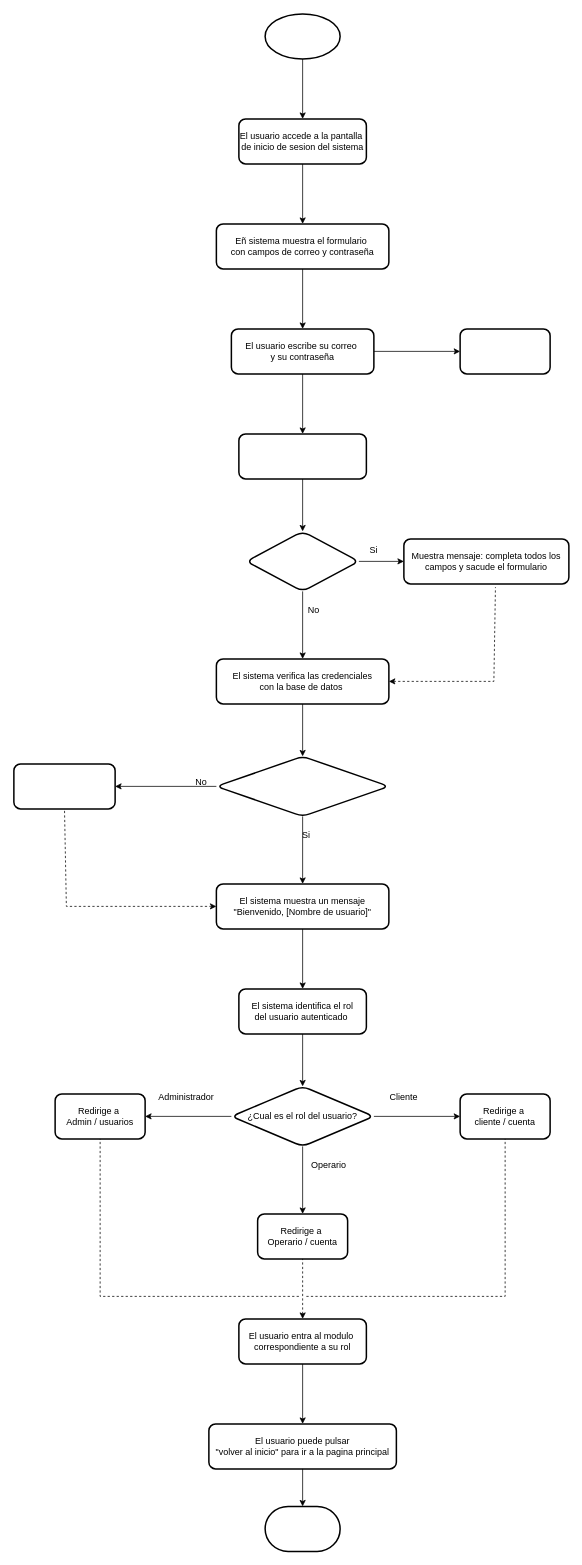
Some shapes in this 582 by 1565 pixel diagram are drawn without their labels. The shapes that lost their labels are listed below. From the top down, each one's box as (x1, y1, x2, y2) in pixels, then its label:
(264, 13, 340, 59): INICIO
(459, 328, 550, 374): Puede ver / ocultar clave
(238, 433, 367, 479): El usuario hace click en "iniciar sesion"
(245, 530, 359, 592): ¿Hay campos vacios?
(13, 763, 116, 809): Muestra error: credenciales incorrectas y sacude el formulario
(215, 755, 389, 817): ¿Las credenciales son correctas?
(264, 1505, 340, 1552): FIN
